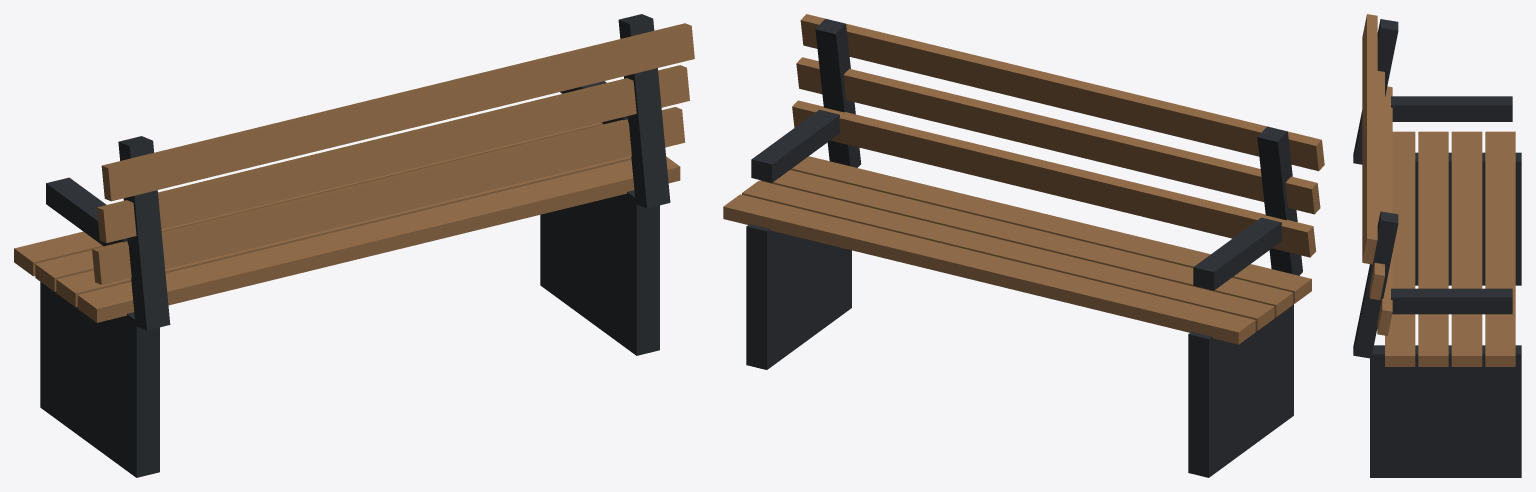
File: bench.obj
3 renders of one model, left to right at view 1: azimuth 30°, elevation 25°; view 2: azimuth 150°, elevation 25°; view 3: azimuth 270°, elevation 25°, orthographic. The views are drawn at different scales.
Parts seen in each view (by area): view 1: part13, part12, part11, part10, part1, part4, part2, part5, part9, part7, part3, part8; view 2: part12, part7, part11, part13, part1, part4, part8, part9, part10, part2, part5, part3 (+1 smaller); view 3: part4, part8, part7, part9, part10, part13, part6, part3, part1, part5, part11, part12 (+1 smaller).
Boxes of the visible parts, box(x1,y1,x2,y2) form: part13: box(101, 23, 694, 201); part12: box(97, 65, 689, 243); part11: box(92, 107, 685, 284); part10: box(77, 156, 680, 322); part1: box(40, 282, 159, 477); part4: box(540, 190, 659, 355); part2: box(118, 136, 170, 330); part5: box(618, 14, 670, 208); part9: box(56, 156, 631, 307); part7: box(14, 122, 603, 276); part3: box(46, 177, 127, 246); part8: box(35, 250, 93, 291); part12: box(796, 57, 1320, 214); part7: box(723, 194, 1255, 344); part11: box(792, 100, 1316, 257); part13: box(800, 14, 1324, 171); part1: box(1188, 303, 1293, 477); part4: box(746, 224, 851, 369); part8: box(742, 180, 1274, 330); part9: box(760, 170, 1293, 317); part10: box(790, 156, 1311, 303); part2: box(1257, 126, 1302, 275); part5: box(815, 18, 861, 167); part3: box(1193, 217, 1281, 290); part4: box(1370, 345, 1521, 477); part8: box(1451, 131, 1482, 366); part7: box(1485, 131, 1515, 366); part9: box(1418, 131, 1448, 366); part10: box(1385, 131, 1415, 366); part13: box(1362, 14, 1377, 264); part6: box(1391, 288, 1512, 314); part3: box(1391, 96, 1512, 121); part1: box(1415, 152, 1521, 285); part5: box(1353, 211, 1398, 358); part11: box(1377, 86, 1392, 335); part12: box(1369, 71, 1384, 300).
Size of the model in its own units: 1.75 by 0.9363 by 0.5543.
